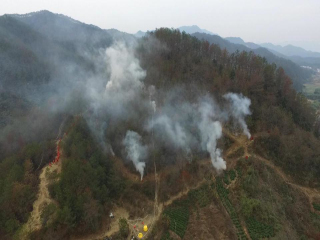smoke: (77, 35, 258, 177)
